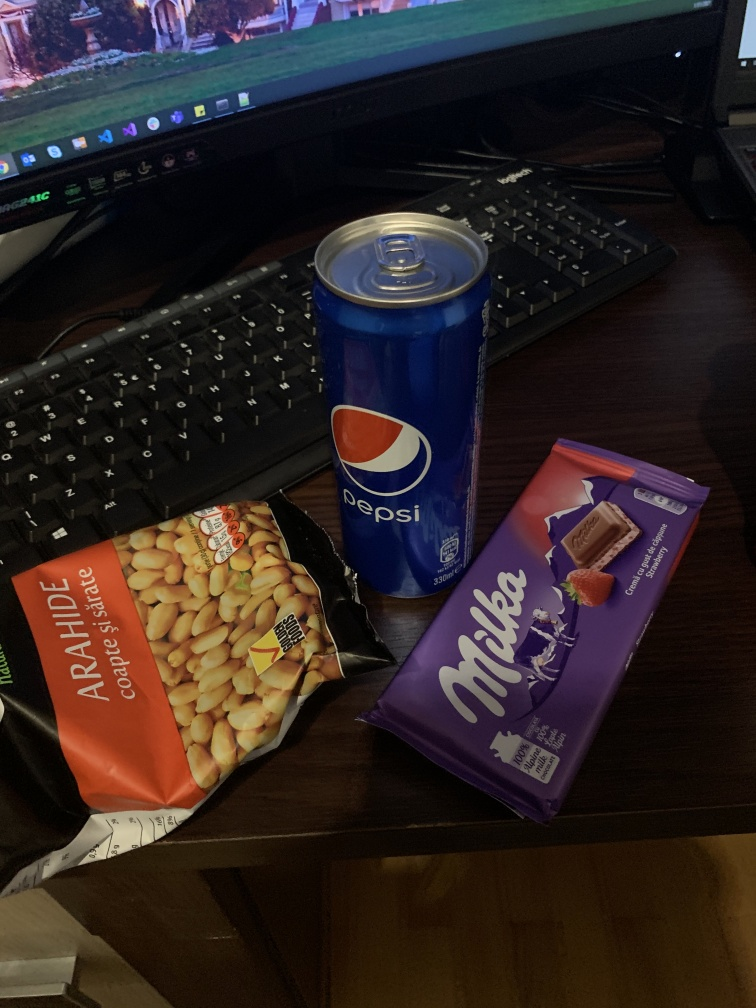milka: (363, 432, 710, 834)
peanuts: (1, 484, 404, 911)
pepsi: (300, 207, 494, 604)
